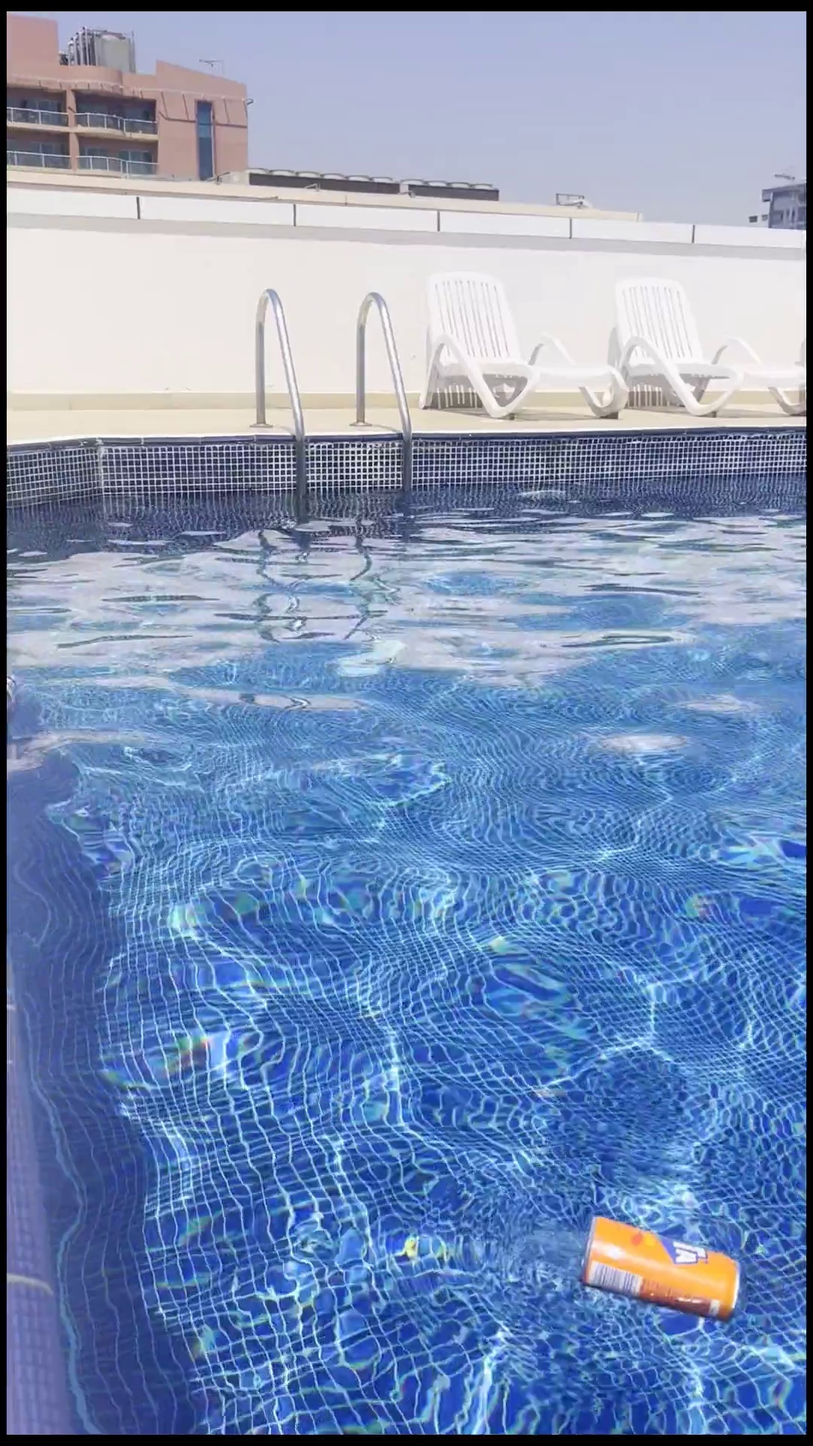debris: (572, 1181, 742, 1344)
